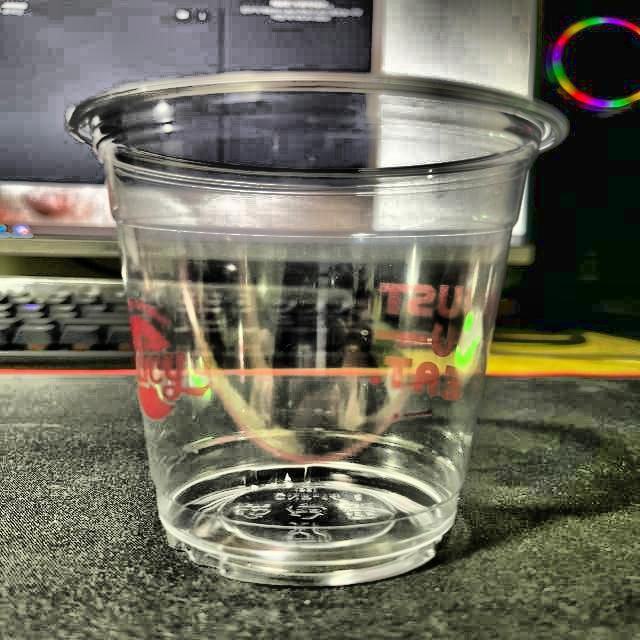plastic cup: (63, 70, 570, 591)
